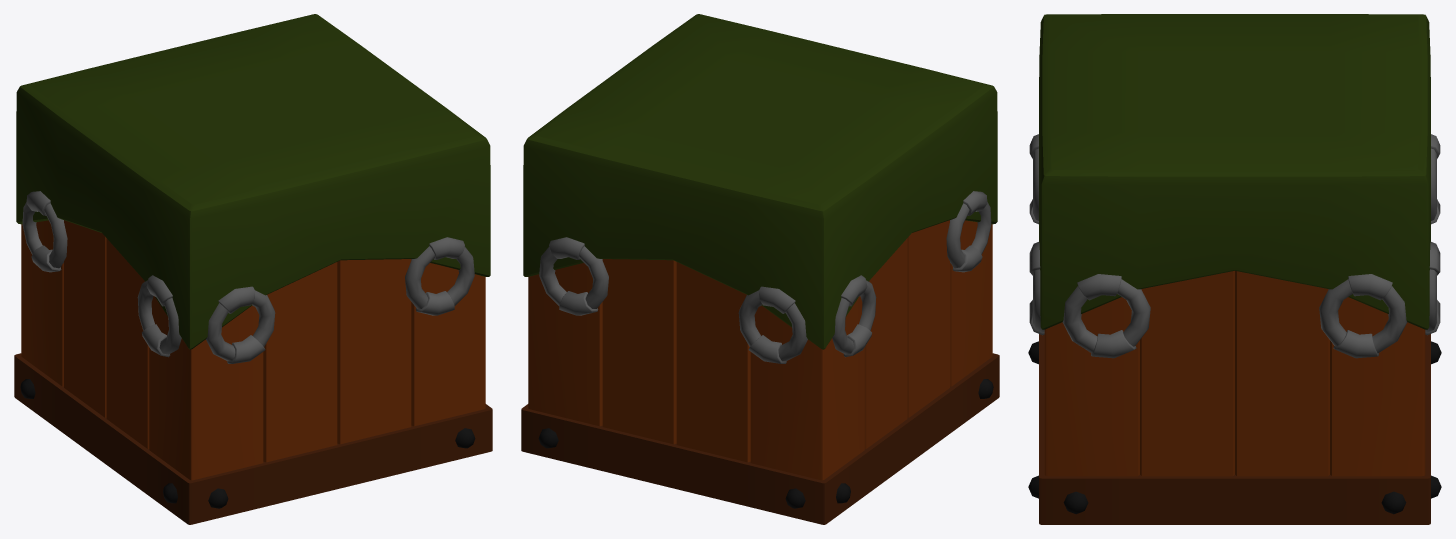
Rendered from Crate_1_v1.fbx.
The picture shows the model from 3 angles, left to right: view 1: azimuth 30°, elevation 25°; view 2: azimuth 150°, elevation 25°; view 3: azimuth 270°, elevation 25°; orthographic projection. The views are drawn at different scales.
Parts seen in each view (by area): view 1: Crate_1_High; view 2: Crate_1_High; view 3: Crate_1_High.
Boxes of the visible parts, x1,y1,x2,y2 form: Crate_1_High: (14, 14, 492, 524); Crate_1_High: (521, 14, 999, 524); Crate_1_High: (1028, 14, 1441, 524).
Size of the model in its own units: 196 by 183 by 196.
